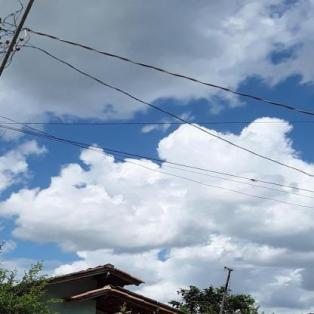Poste: (0, 13, 10, 314)
